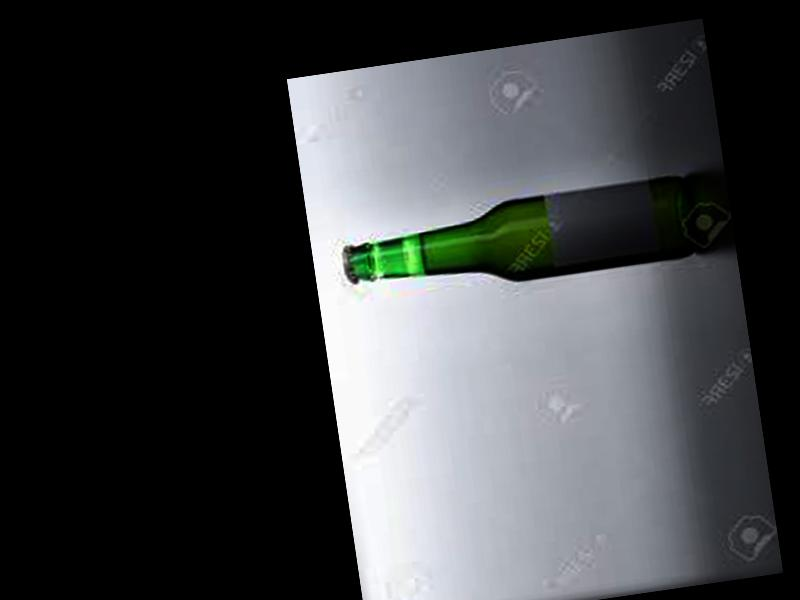Beer: (338, 173, 698, 306)
